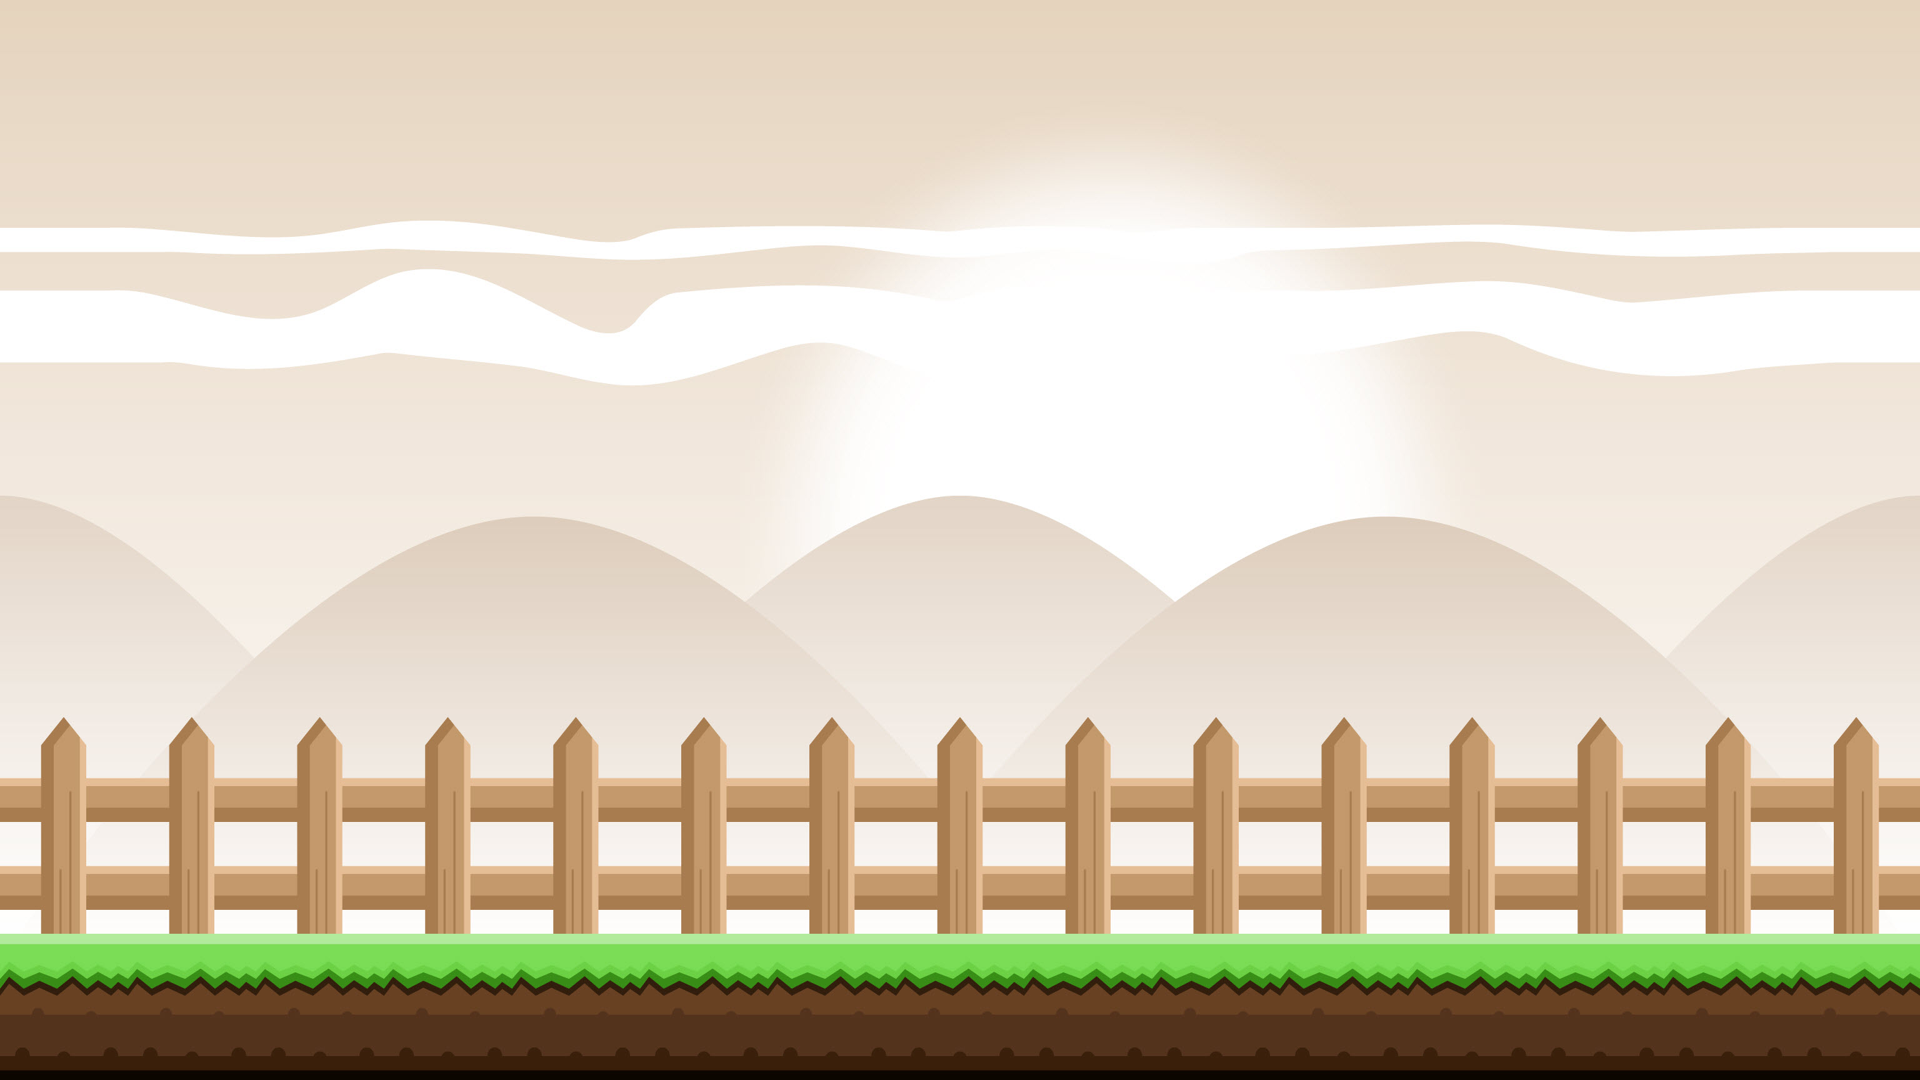beemonster: (891, 344, 938, 386), (295, 212, 342, 255), (1702, 133, 1749, 175)
character: (100, 814, 189, 897)
door: (1745, 336, 1875, 455)
flymonster: (531, 679, 578, 721), (622, 675, 669, 717), (1089, 562, 1135, 604)
ground: (1189, 605, 1629, 934), (1634, 537, 1920, 930), (860, 719, 1183, 931), (295, 837, 857, 939)
ground_empty: (4, 940, 1909, 1077)
ground_grass: (1163, 193, 1673, 237), (332, 545, 843, 588), (994, 392, 1505, 435), (427, 258, 938, 302)
monster: (1001, 646, 1047, 688), (1710, 452, 1756, 495), (1439, 128, 1485, 170), (556, 175, 603, 218), (767, 179, 814, 222), (1335, 542, 1381, 584), (694, 762, 738, 804), (1414, 547, 1458, 589)
smallmonster: (529, 481, 575, 524), (650, 169, 696, 211), (483, 758, 529, 800), (936, 646, 982, 688), (1225, 136, 1271, 178), (1352, 323, 1396, 365)
window: (1, 208, 520, 934)
